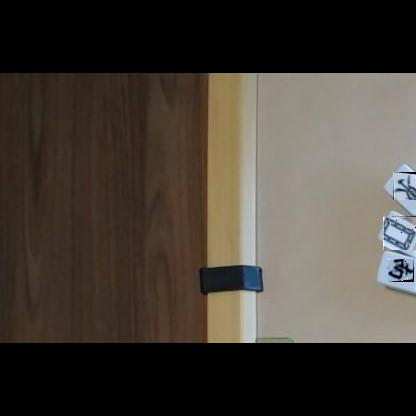1z: (393, 172, 416, 200)
2z: (388, 259, 414, 282)
5z: (383, 216, 416, 250)
